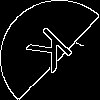K: (25, 25, 83, 81)
